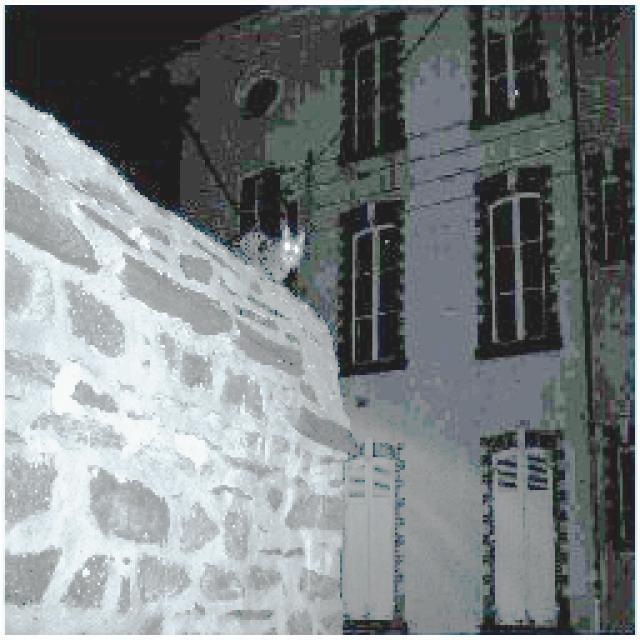cat: (210, 190, 314, 310)
